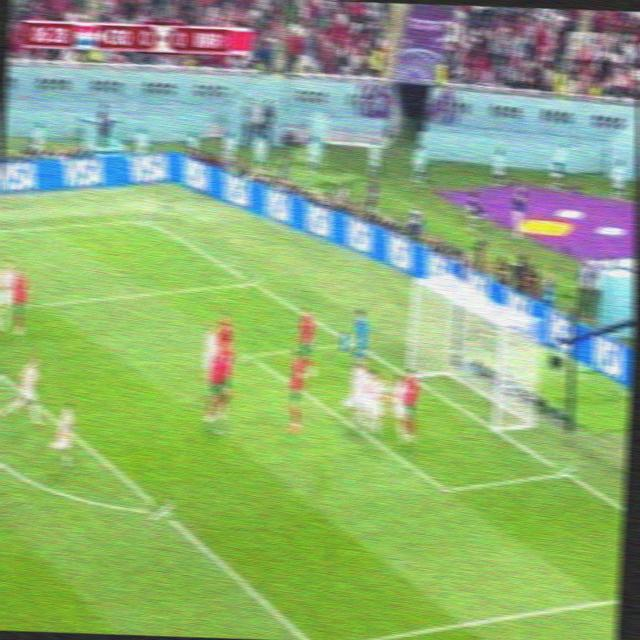bigarea_bottom_inner: (303, 629, 332, 640)
bigarea_top_outter: (240, 270, 262, 294)
bottom_arc_area_intersection: (149, 494, 174, 526)
corner: (133, 210, 159, 227)
smallarea_bottom_inner: (430, 470, 459, 506)
smallarea_bottom_outter: (550, 458, 576, 486)
smallarea_top_inner: (237, 342, 259, 368)
smallarea_top_outter: (340, 332, 360, 352)
